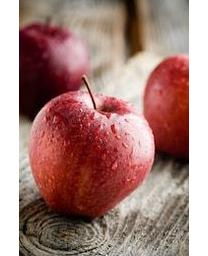apple: (27, 86, 155, 221), (19, 18, 93, 120), (143, 55, 190, 163)
